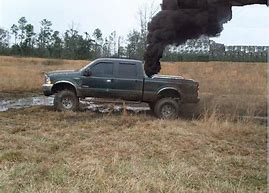smoke: (143, 1, 235, 76)
